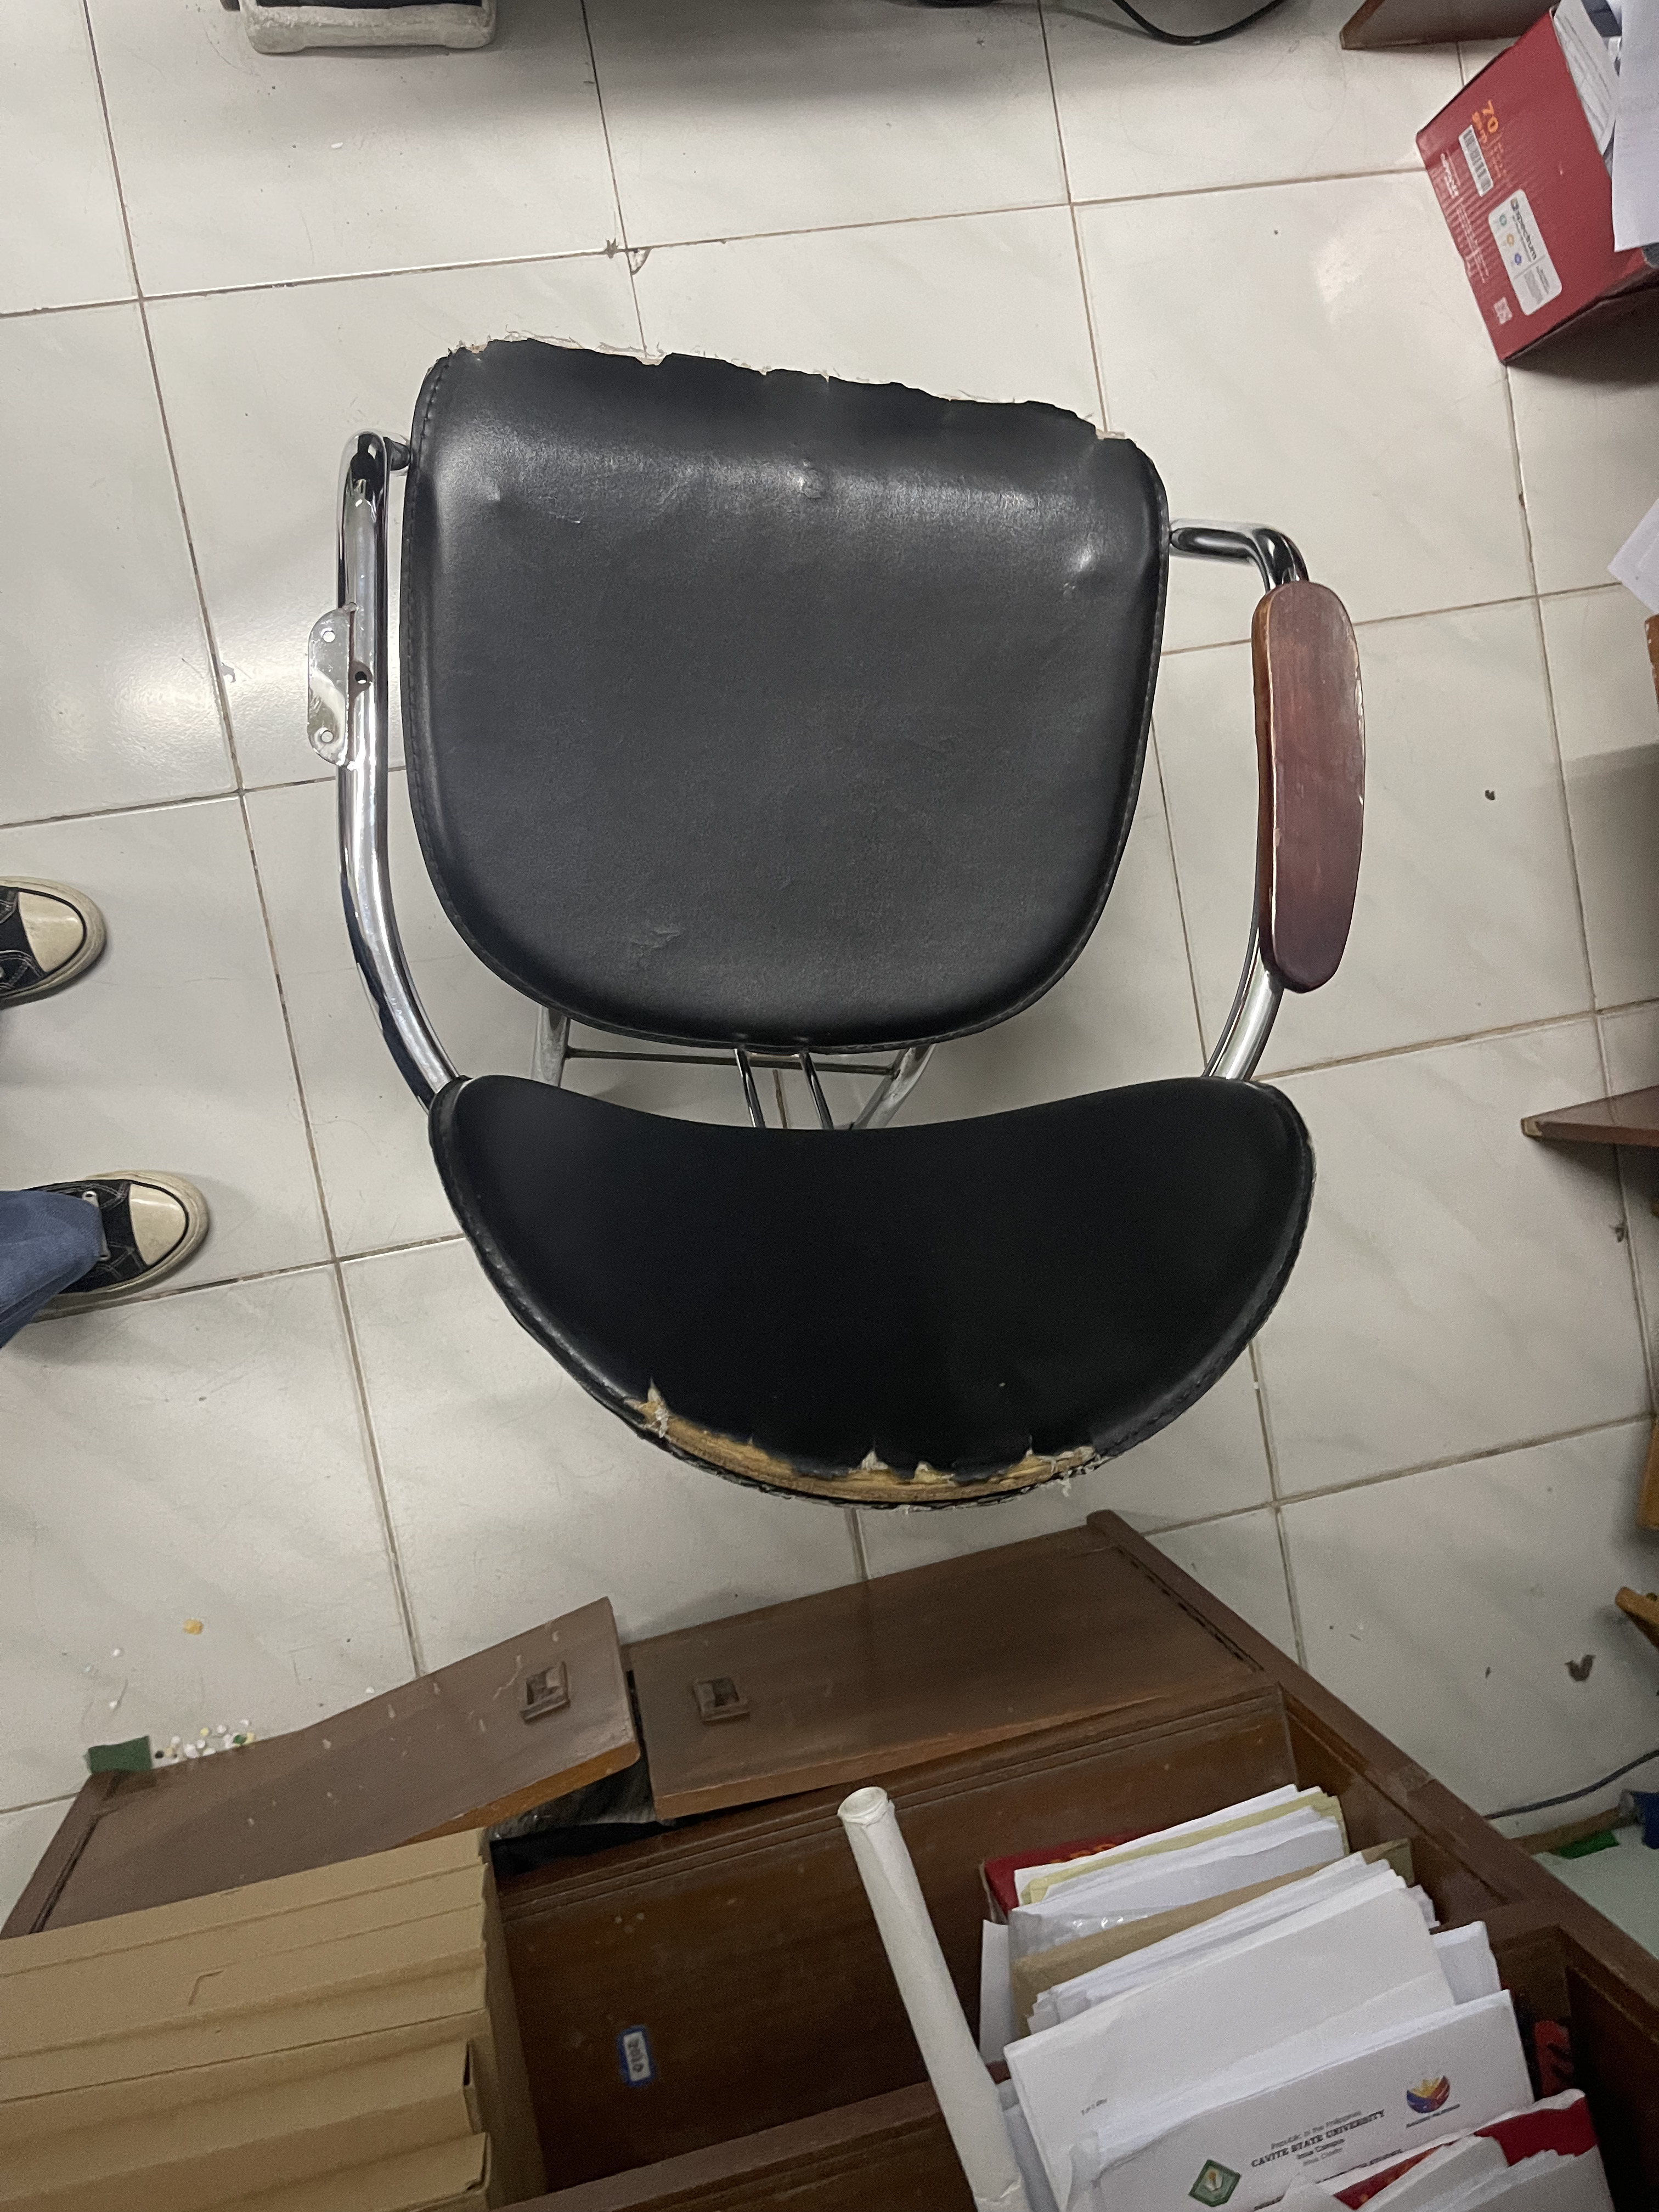chair1: (307, 329, 1370, 1512)
